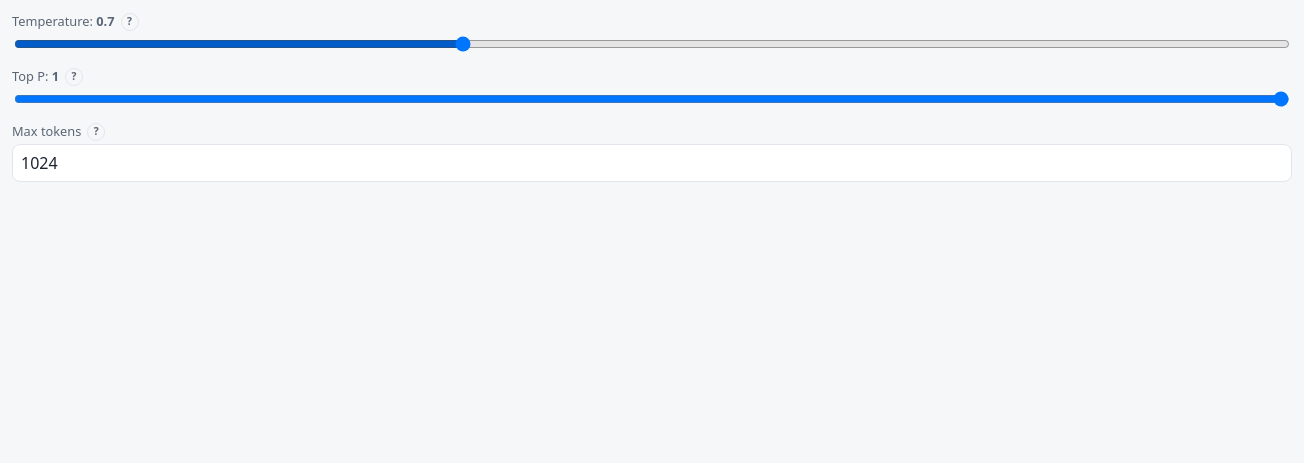
Test case: ParamControls › does not claim the 1024 default expands to a ceiling when the model publishes no max-output size
What coordinates should you click on to do the following:
click the button named "Help: Max tokens"
I would click on:
 (96, 132)
Its box is [87, 123, 105, 141].
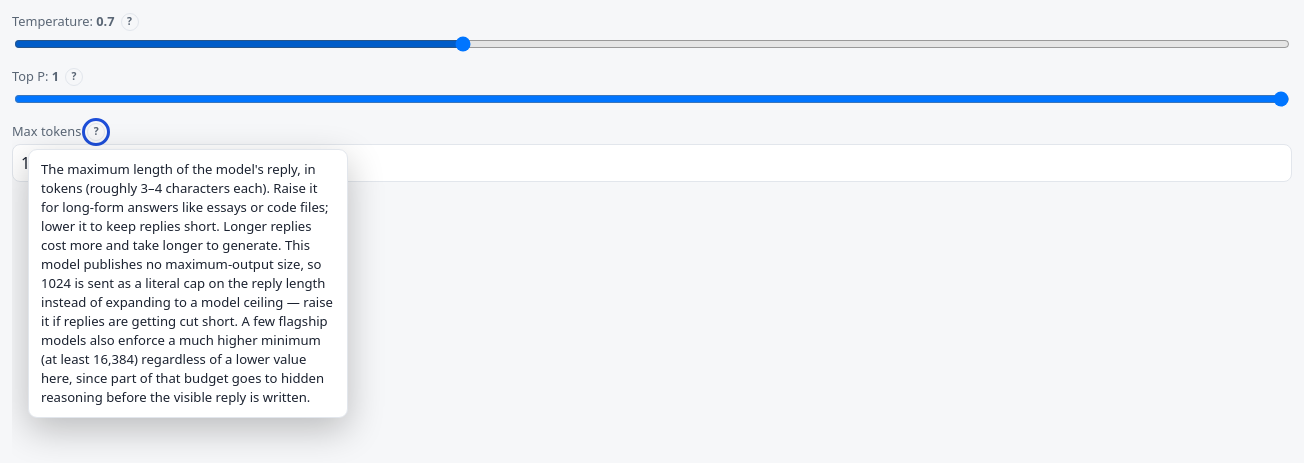
Check: the tooltip does not show "expands to", box [28, 149, 348, 418]
Check: the tooltip shows "no maximum-output size", box [41, 236, 333, 330]
Check: the tooltip shows "literal cap", box [41, 236, 333, 330]
